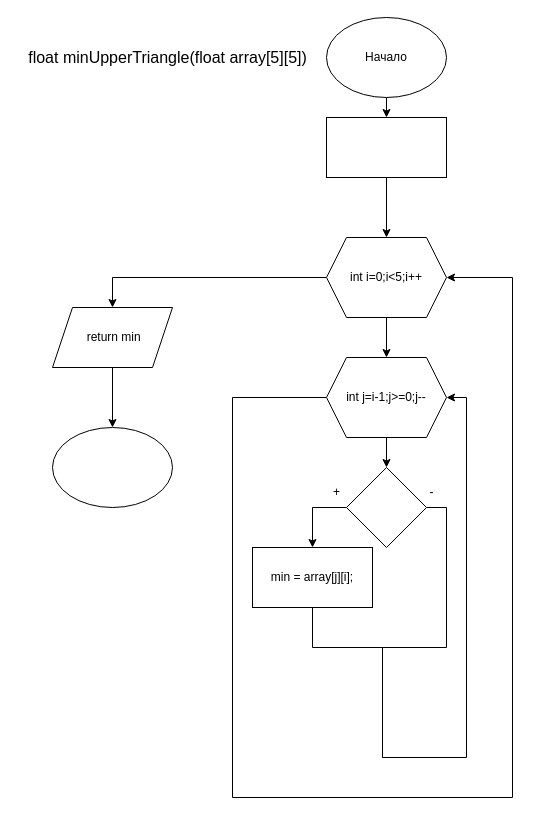
Some shapes in this 538 by 823 pixel diagram are drawn without their labels. Here are the shapes that lost their labels. From the top down, the centre of each, then its label:
At point 386,147: "min=array[0][0]".
At point 112,467: "Конец".
At point 386,507: "array[j][i]>min".
